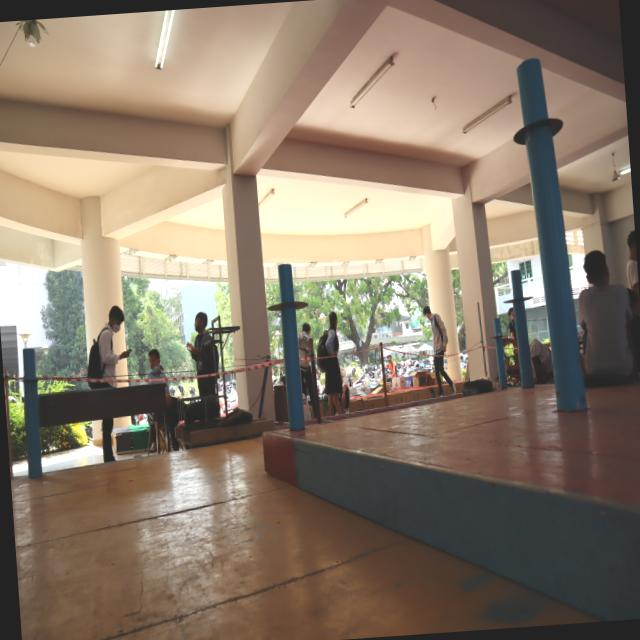pole: (500, 53, 572, 187), (261, 260, 319, 346), (501, 266, 542, 326), (14, 348, 46, 417), (488, 315, 510, 348)
